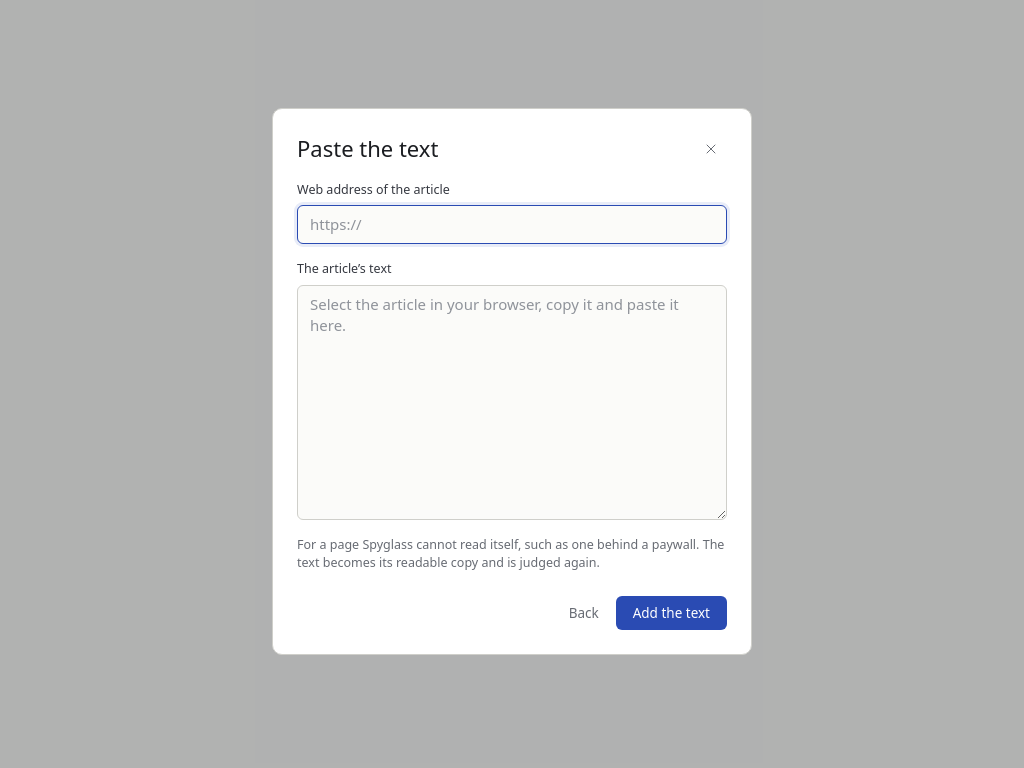
Test case: PasteTextDialog › asks for a web address and for text before sending
The width and height of the screenshot is (1024, 768).
Click the button "Add the text": (671, 613) [616,596,727,630]
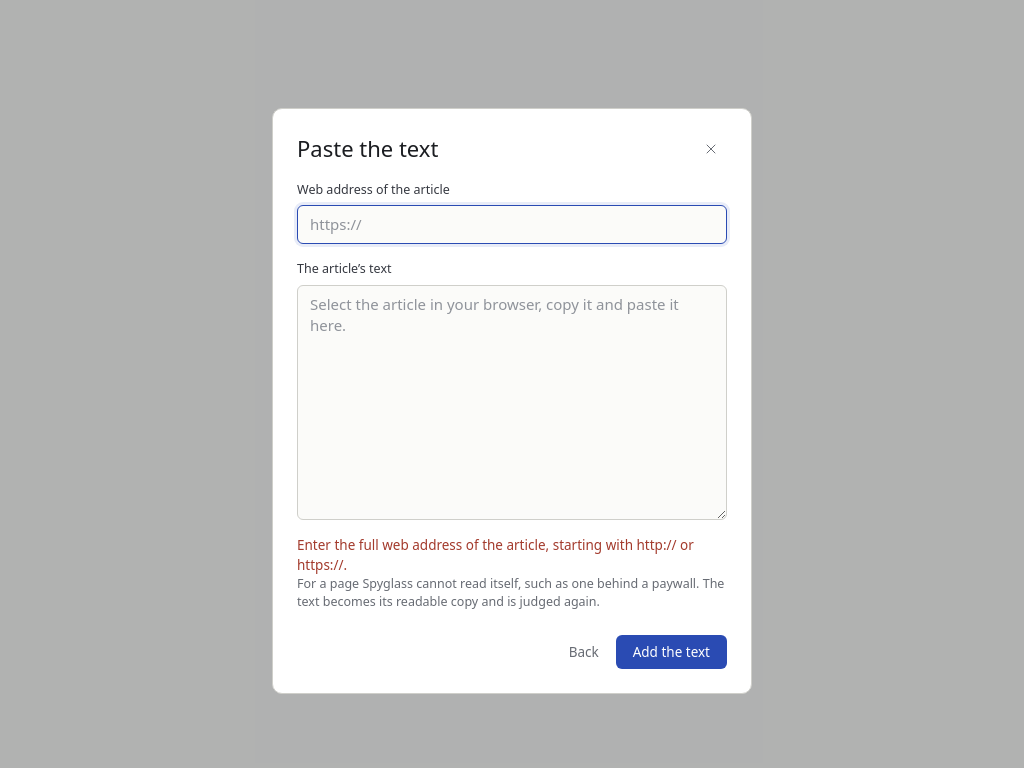
Result: the message shows "full web address" at [297,536,694,574]
In the field labelled "Web address of the article": (512, 224) [297,205,727,244], type "https://news.example.com/story"
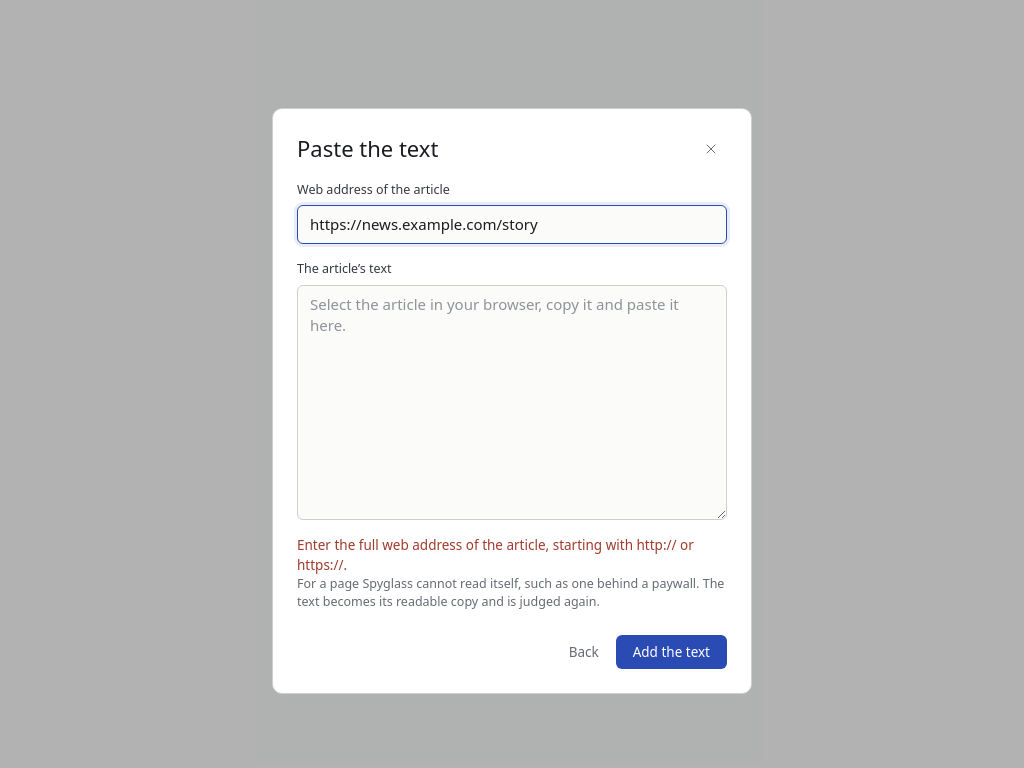
Click the button "Add the text": (671, 652) [616,635,727,669]
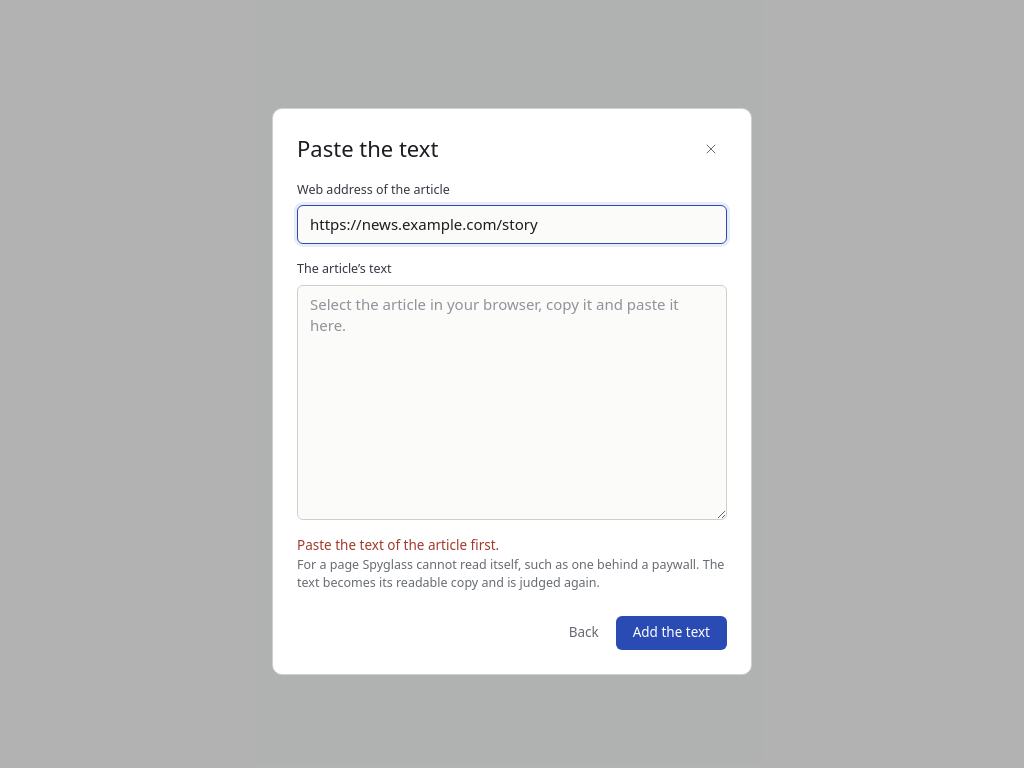
Result: the message shows "Paste the text" at [297,536,499,554]
